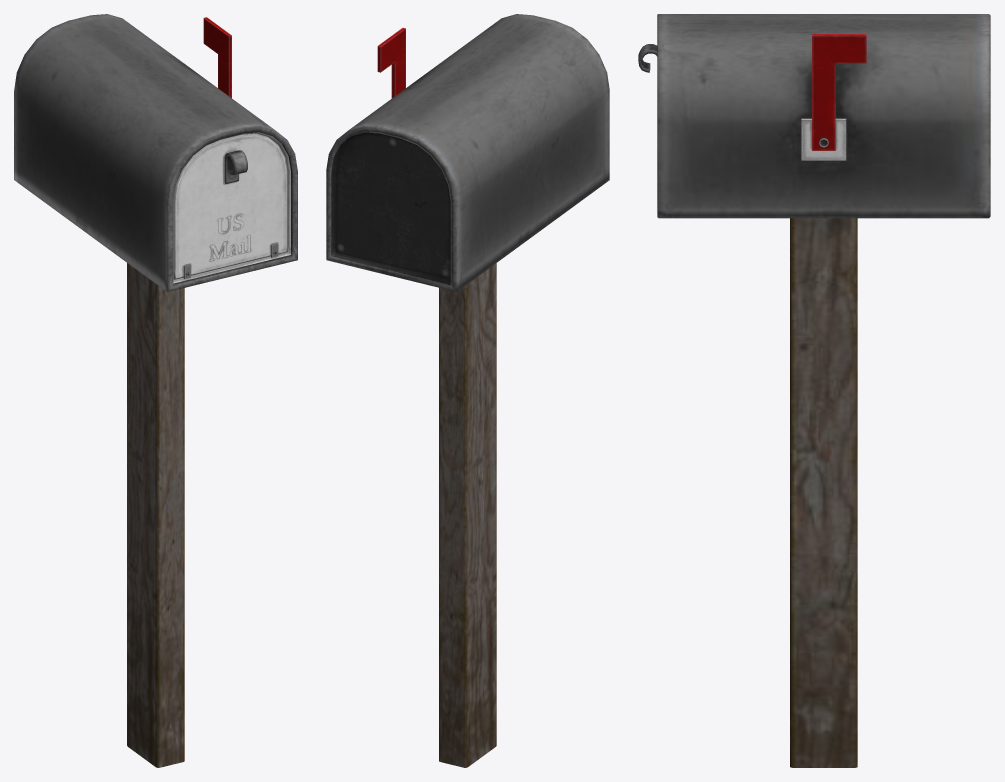
File: buzon.glb
3 views of the same model, side by side, from view 1: azimuth 30°, elevation 25°; view 2: azimuth 150°, elevation 25°; view 3: azimuth 270°, elevation 25° (orthographic). The views are drawn at different scales.
Parts seen in each view (by area): view 1: buzon; view 2: buzon; view 3: buzon.
Part boxes in pixels (x1=…): buzon: x1=14, y1=14, x2=297, y2=767; buzon: x1=326, y1=14, x2=609, y2=767; buzon: x1=638, y1=14, x2=990, y2=767.
Size of the model in its own units: 0.2566 by 1.25 by 0.5235.
1 material, 1 textured.
